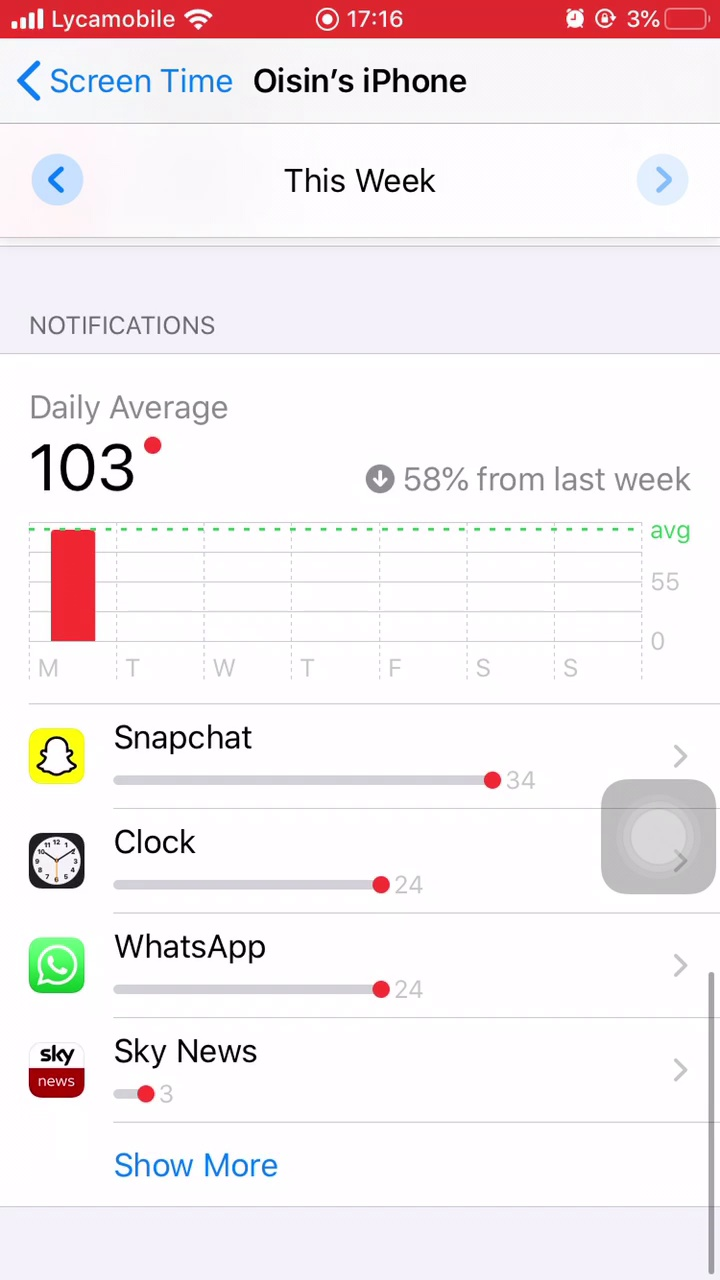not_app: (12, 707, 562, 808), (12, 917, 496, 1021), (12, 814, 490, 913), (14, 1022, 415, 1119)
not_over: (17, 252, 286, 511)
week: (273, 148, 452, 203)
